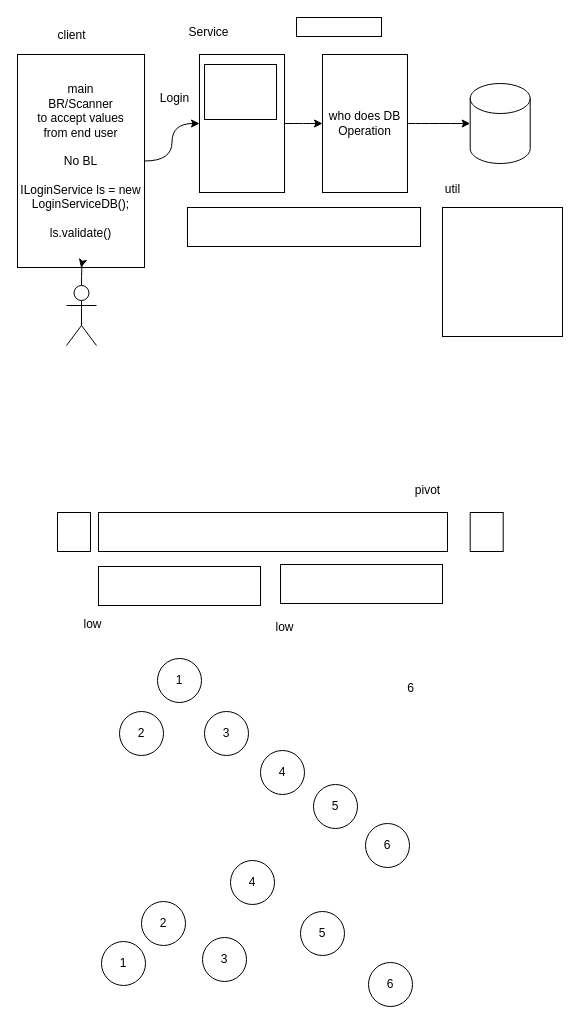
Some shapes in this 580 by 1024 pixel diagram are drawn without their labels. Each missing label, with the box of its shape:
Actor: (66, 284, 96, 346)
Exception Layer: (186, 206, 420, 246)
ILoginService: (296, 16, 382, 36)
IO: (469, 82, 530, 164)
loginvalidate Login: (204, 64, 276, 120)
String <- toUpper(String val) { }: (442, 206, 562, 336)
